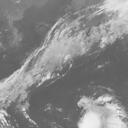cyclone: (77, 91, 127, 127)
